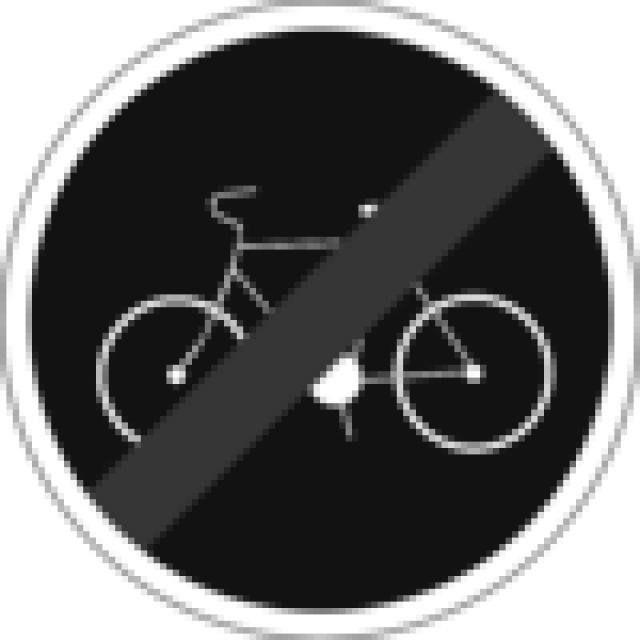end_indication: (0, 0, 633, 637)
